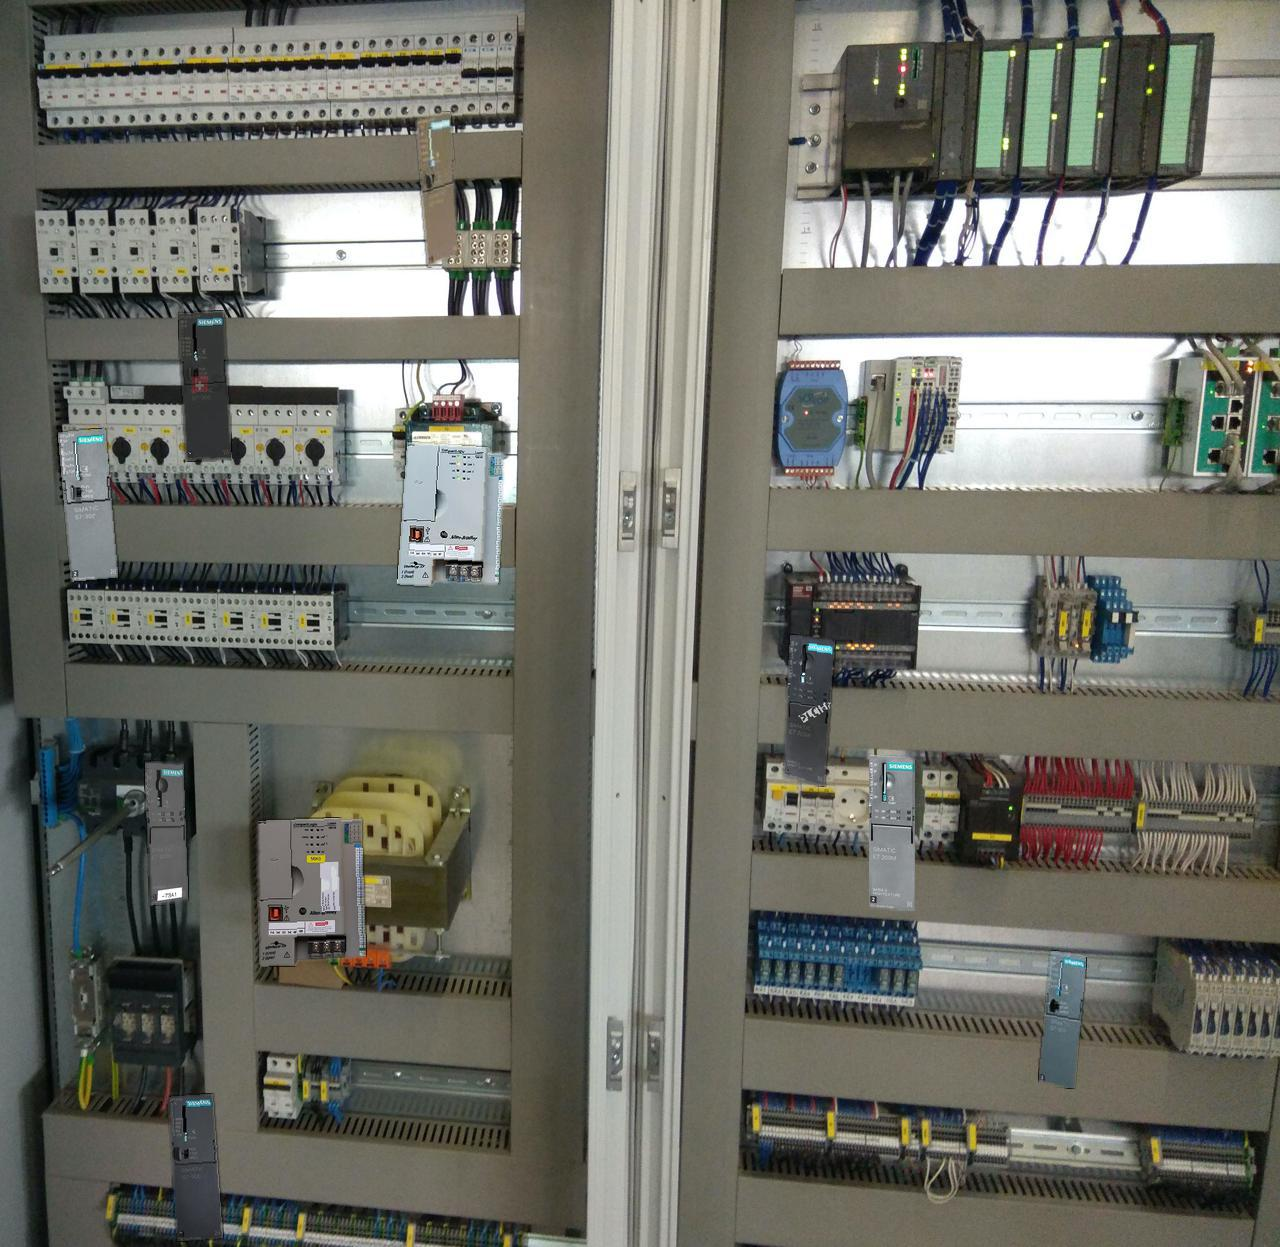AllenBradley: (258, 818, 365, 966), (397, 443, 503, 585)
Siemens: (58, 427, 117, 579), (168, 1094, 222, 1240), (178, 311, 231, 459), (1039, 951, 1086, 1087), (416, 112, 457, 266)
